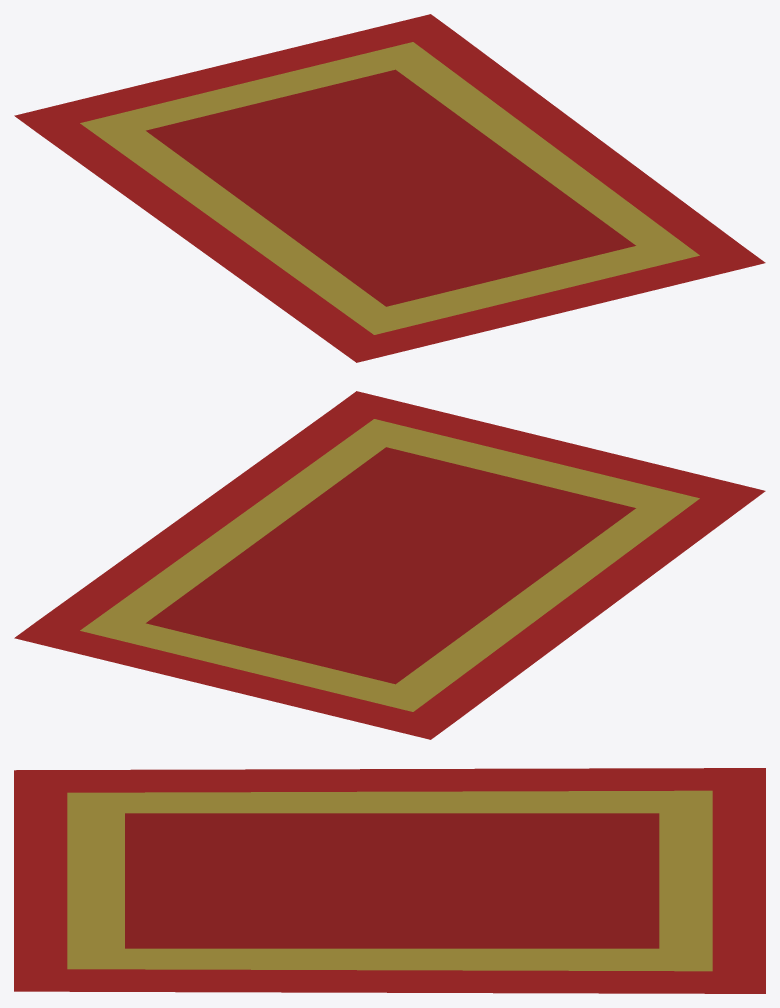
Rendered from alfombra.FBX.
3 views of the same model, one above another, from view 1: azimuth 30°, elevation 25°; view 2: azimuth 150°, elevation 25°; view 3: azimuth 270°, elevation 25° (orthographic). The views are drawn at different scales.
Visible parts, largest first — view 1: Plano; view 2: Plano; view 3: Plano.
Part boxes in pixels (x1,y1,x2,y2): Plano: [14, 14, 765, 362]; Plano: [14, 391, 765, 739]; Plano: [14, 768, 765, 993].
Size of the model in its own units: 394 by 9.03e-05 by 554.
